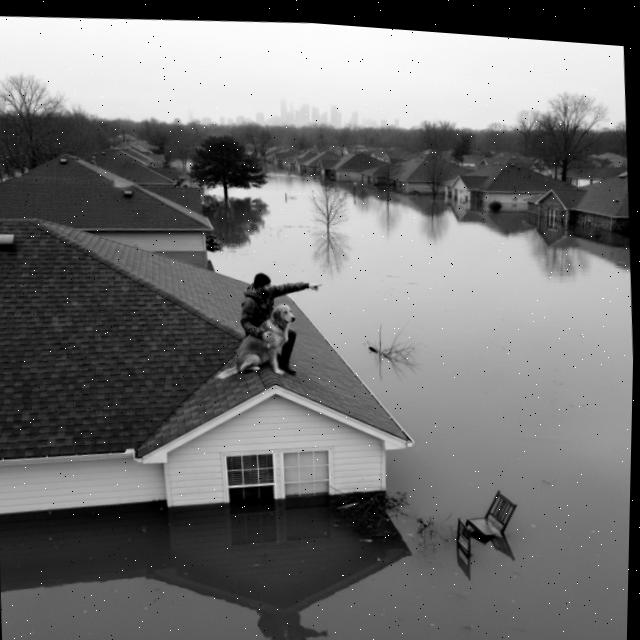civilian: (238, 261, 332, 386)
dog: (217, 291, 306, 386)
